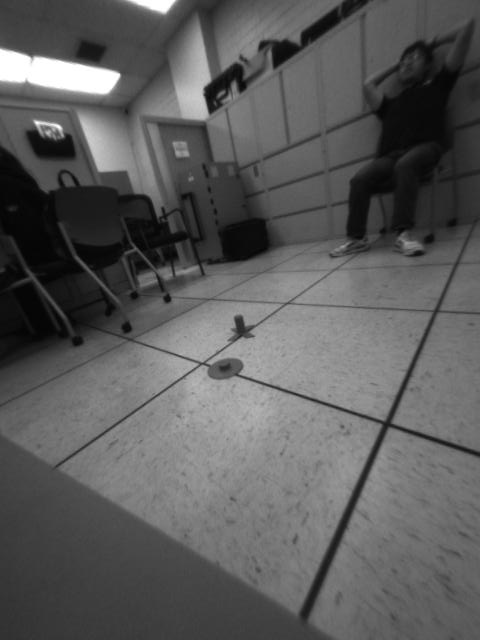X: (222, 315, 260, 344)
